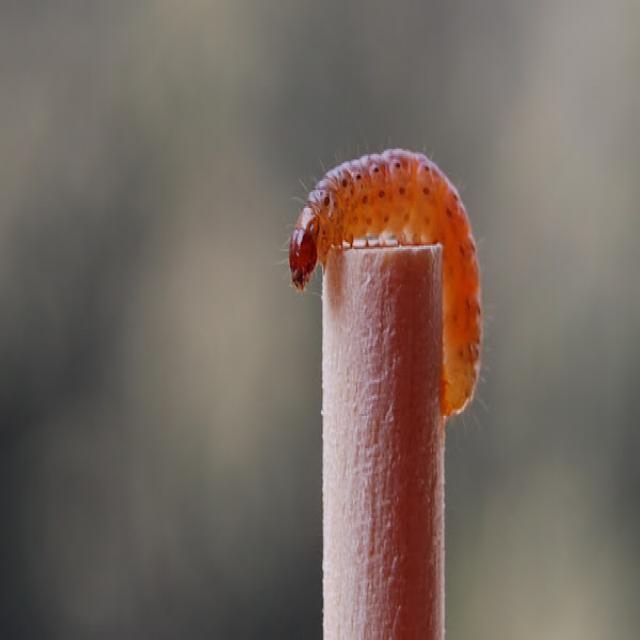cornborer-Larva-: (270, 128, 504, 436)
